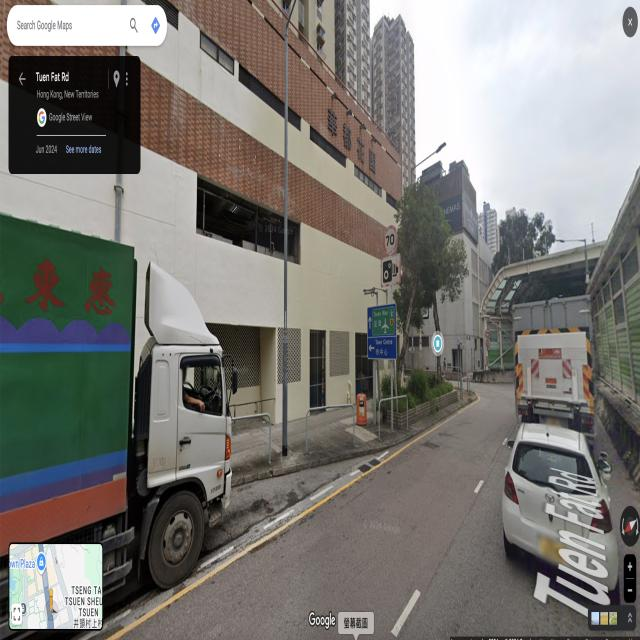Direction-Sign: (367, 305, 397, 360)
Order-Sign: (383, 225, 398, 254), (420, 327, 421, 339)
Warning-Sign: (381, 254, 401, 287)
